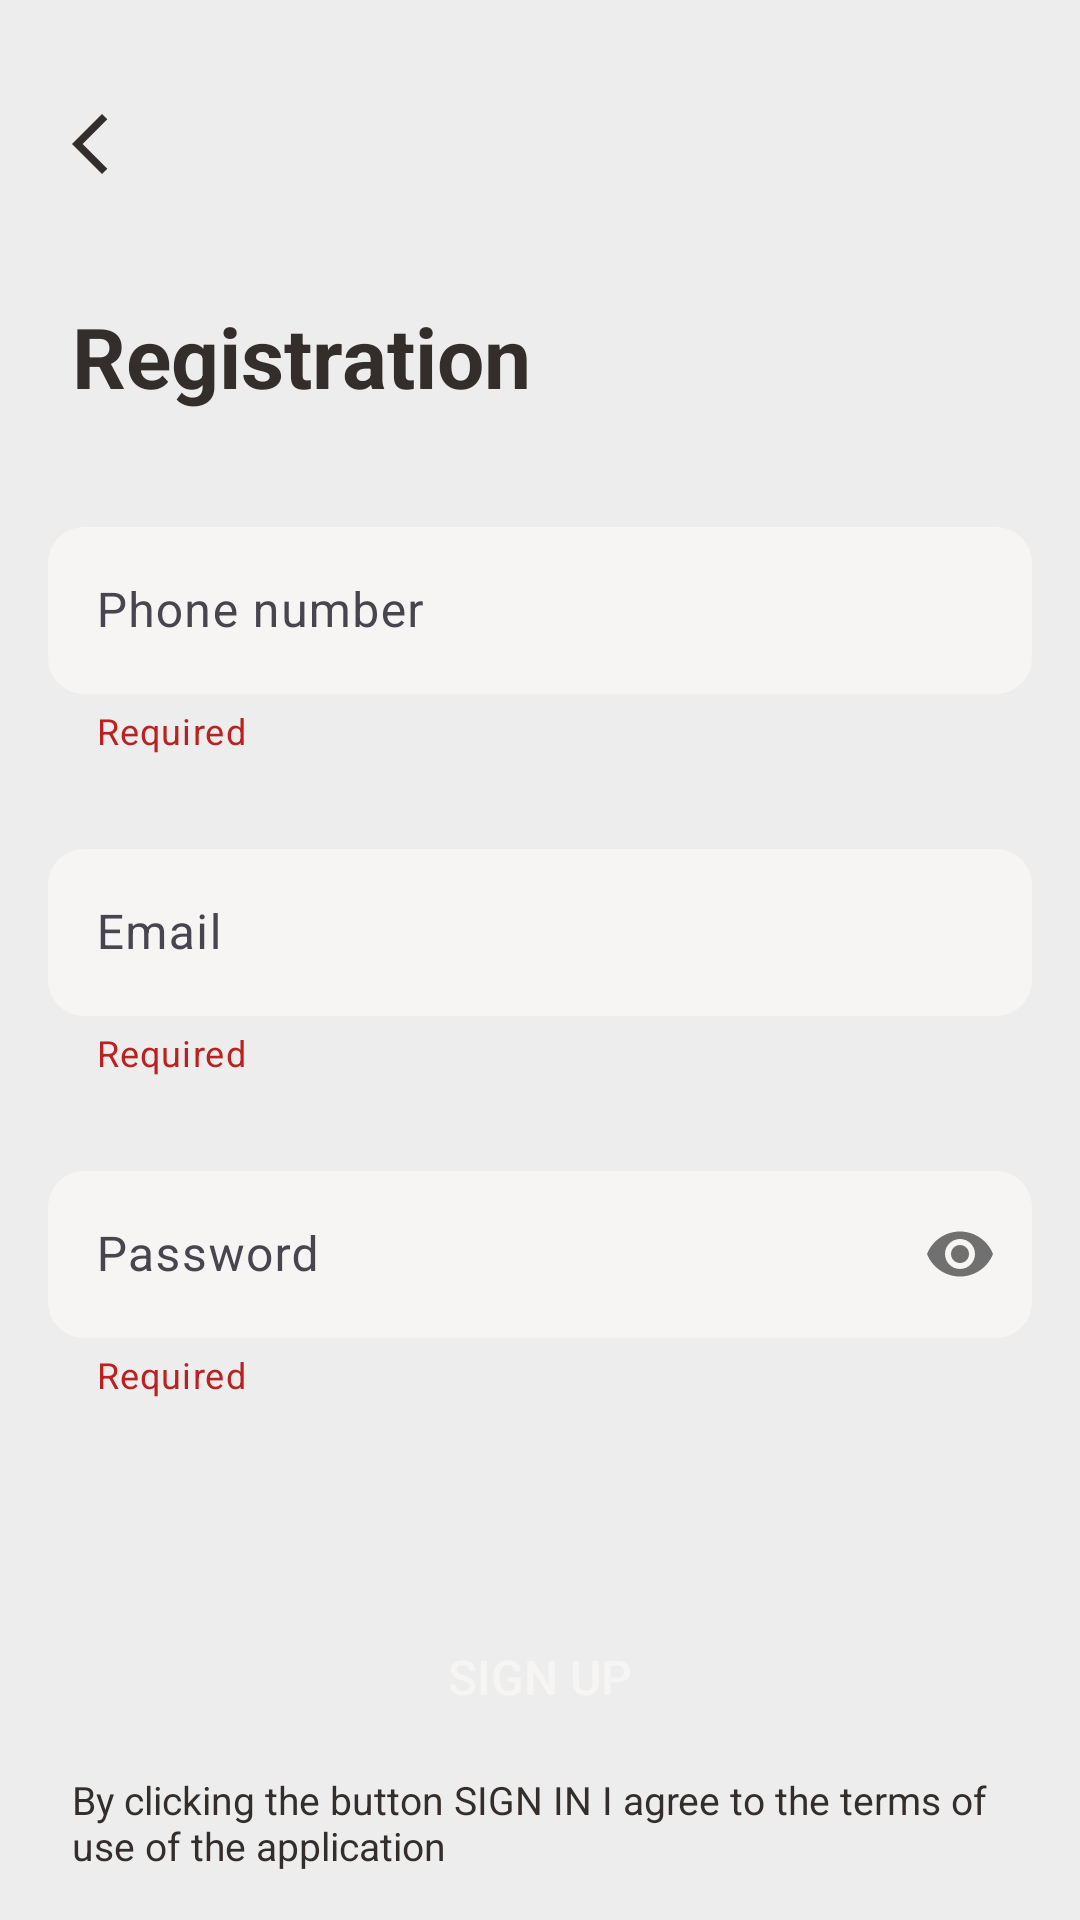

Named icons in this screenshot (1080*1920) and their bounding boxes, (x1, y1, x2, y2):
back arrow: (72, 114, 107, 174)
